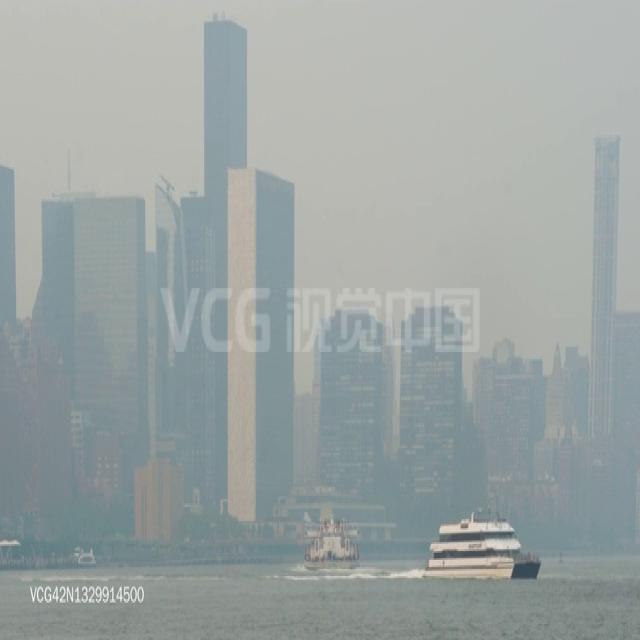houseboat: (70, 541, 98, 569)
passenger ship: (421, 508, 542, 580), (306, 517, 364, 575)
